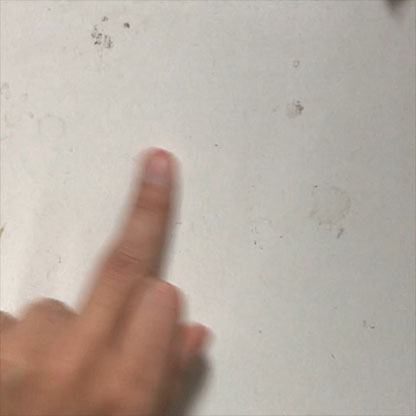fingertip: (130, 142, 191, 196)
